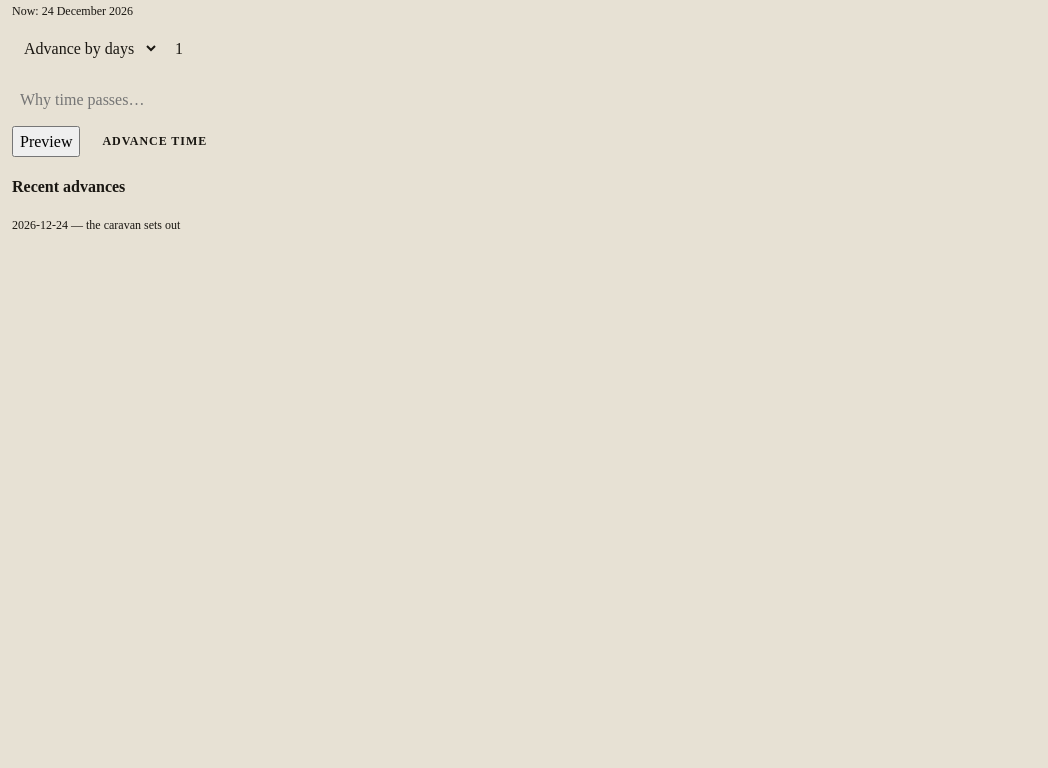
a replayed checkpoint is named by the fork that exists
Expected: the text "Now: 24 December 2026" is shown, 12,4 -> 133,18
Replace the text in the number field named "Days" with "90" at (602, 48), box 167,31 -> 1036,66
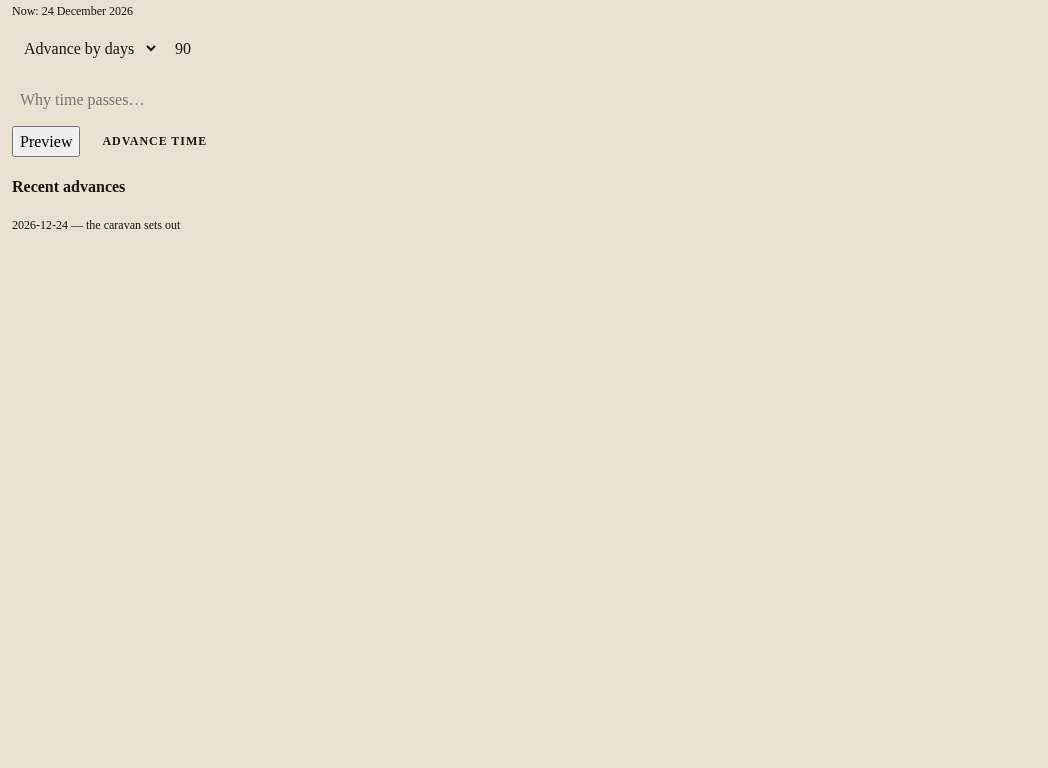
Type "a season passes" into the field named "Reason" at (120, 100), box 12,86 -> 228,114
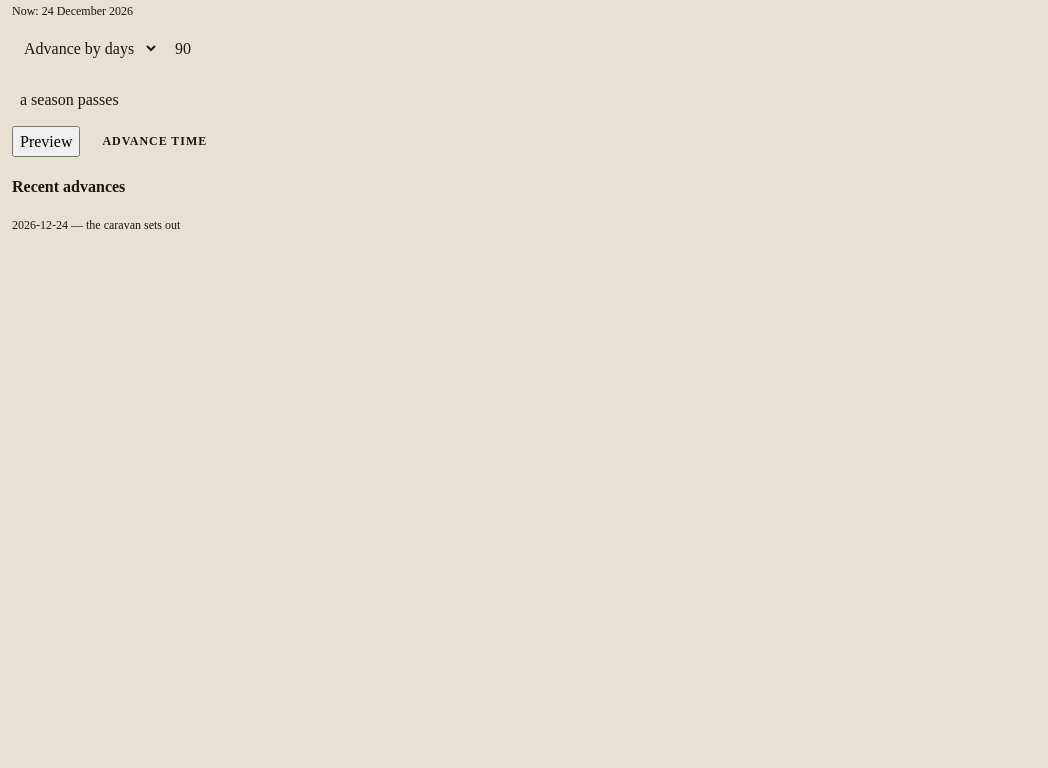
Click the button "Advance time" at (155, 142), box 88,126 -> 221,157
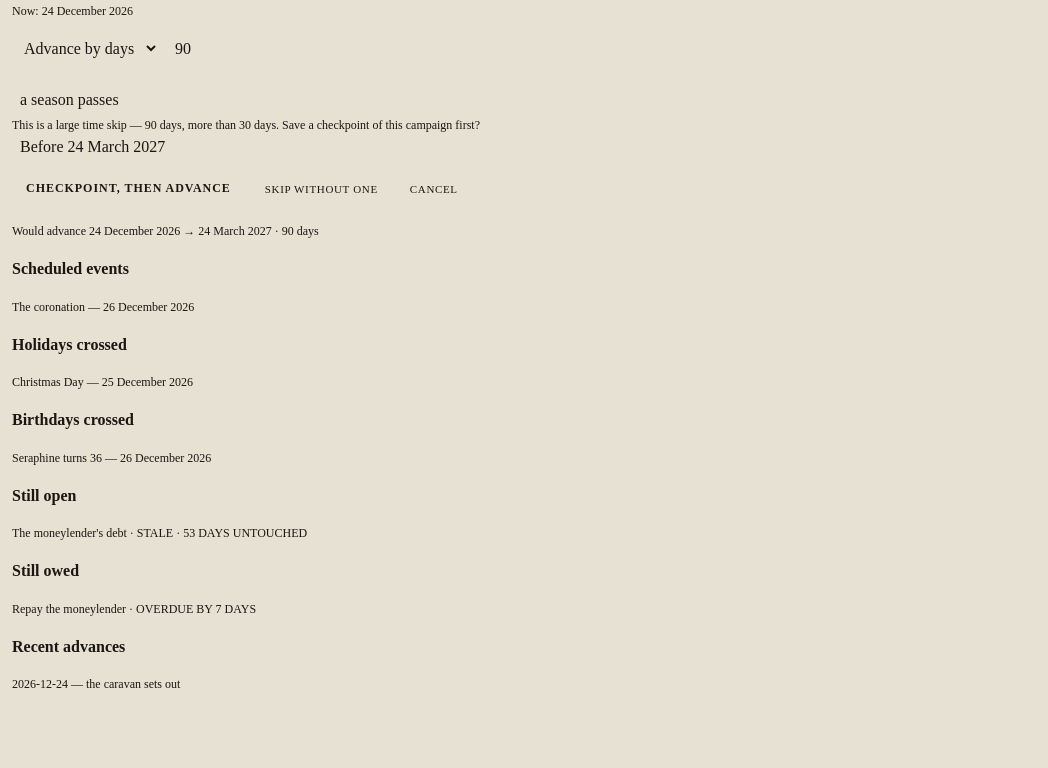
Expected: the text "large time skip" is shown, 12,118 -> 145,132
Click the button "Checkpoint, then advance" at (128, 188), box 12,173 -> 245,204
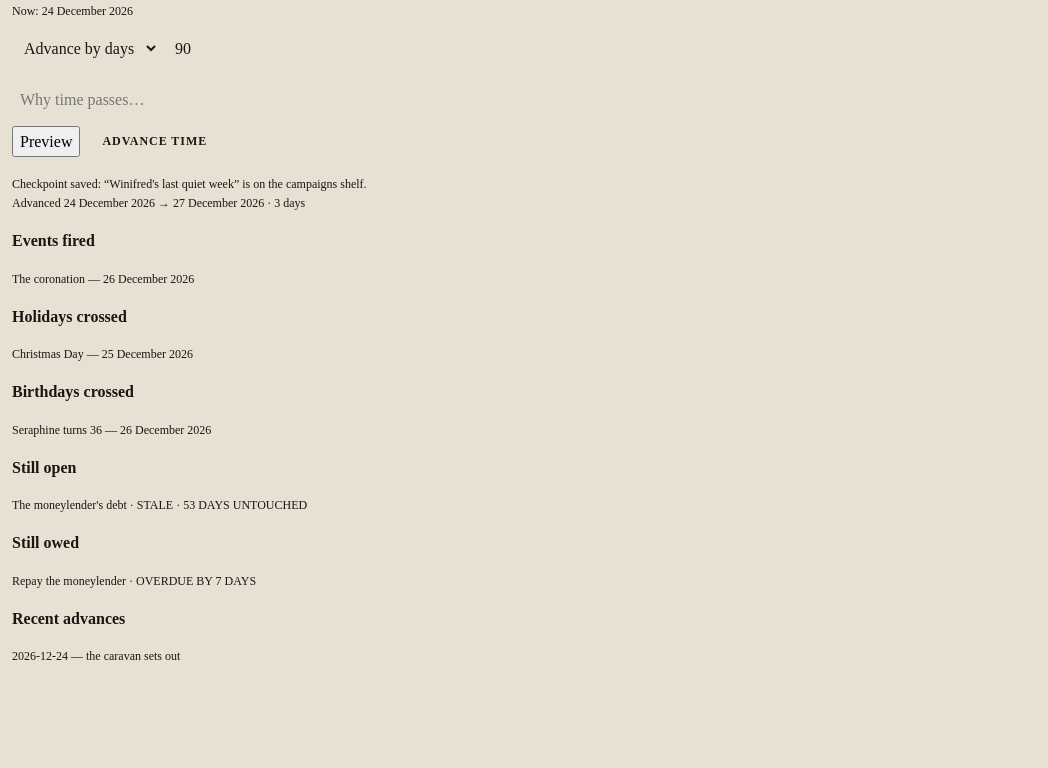
Expected: the text "Before 24 March 2027" is not shown
Expected: the text "Advanced 24 December 2026 → 27 December 2026 · 3 days" is shown, 12,196 -> 305,210
Expected: the text "Winifred's last quiet week" is shown, 12,177 -> 367,191
